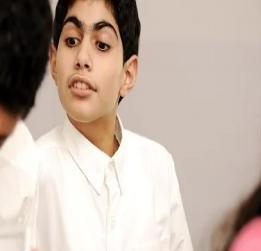cheating: (46, 0, 197, 251)
